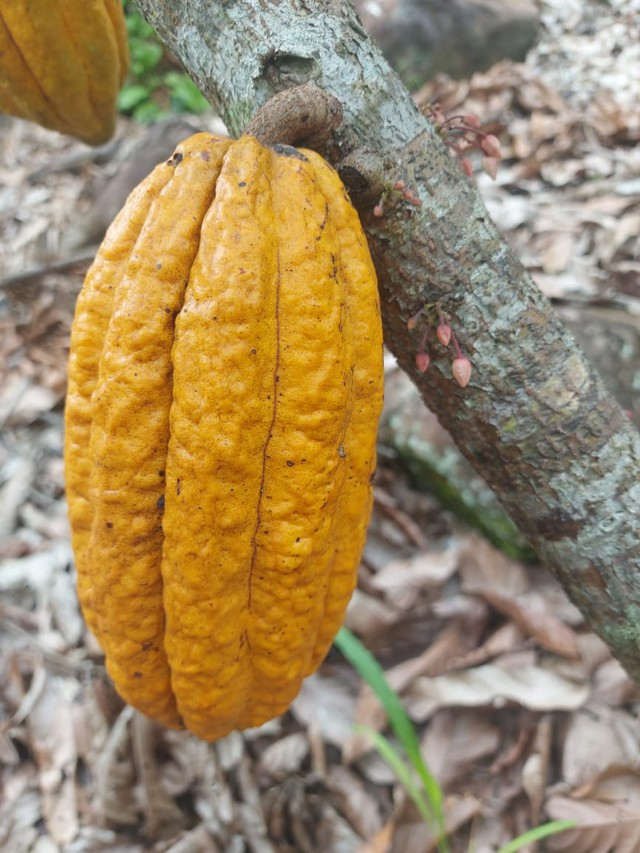Health: (35, 130, 402, 745)
